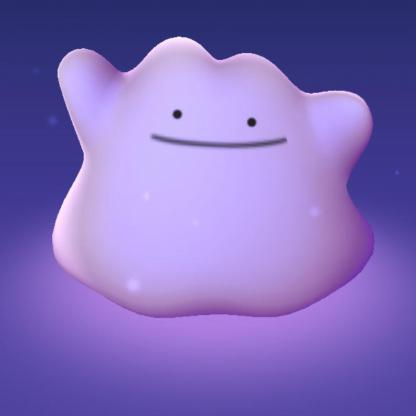Ditto: (8, 8, 416, 414)
